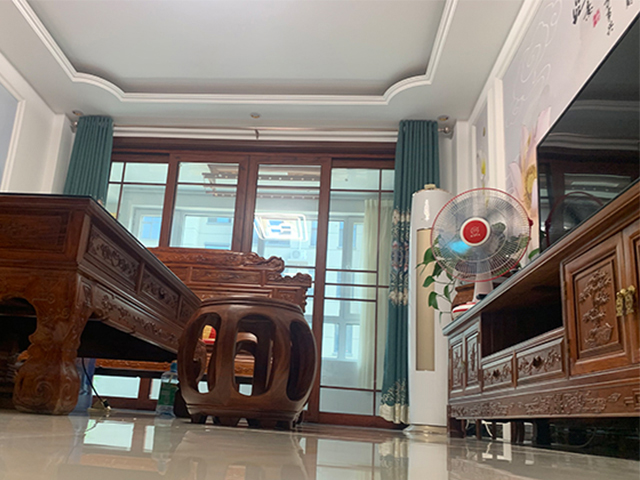cabinet: (443, 178, 640, 447)
curtain: (377, 119, 441, 423)
stool: (176, 295, 318, 430)
table: (1, 190, 205, 419)
wire: (80, 357, 111, 409)
